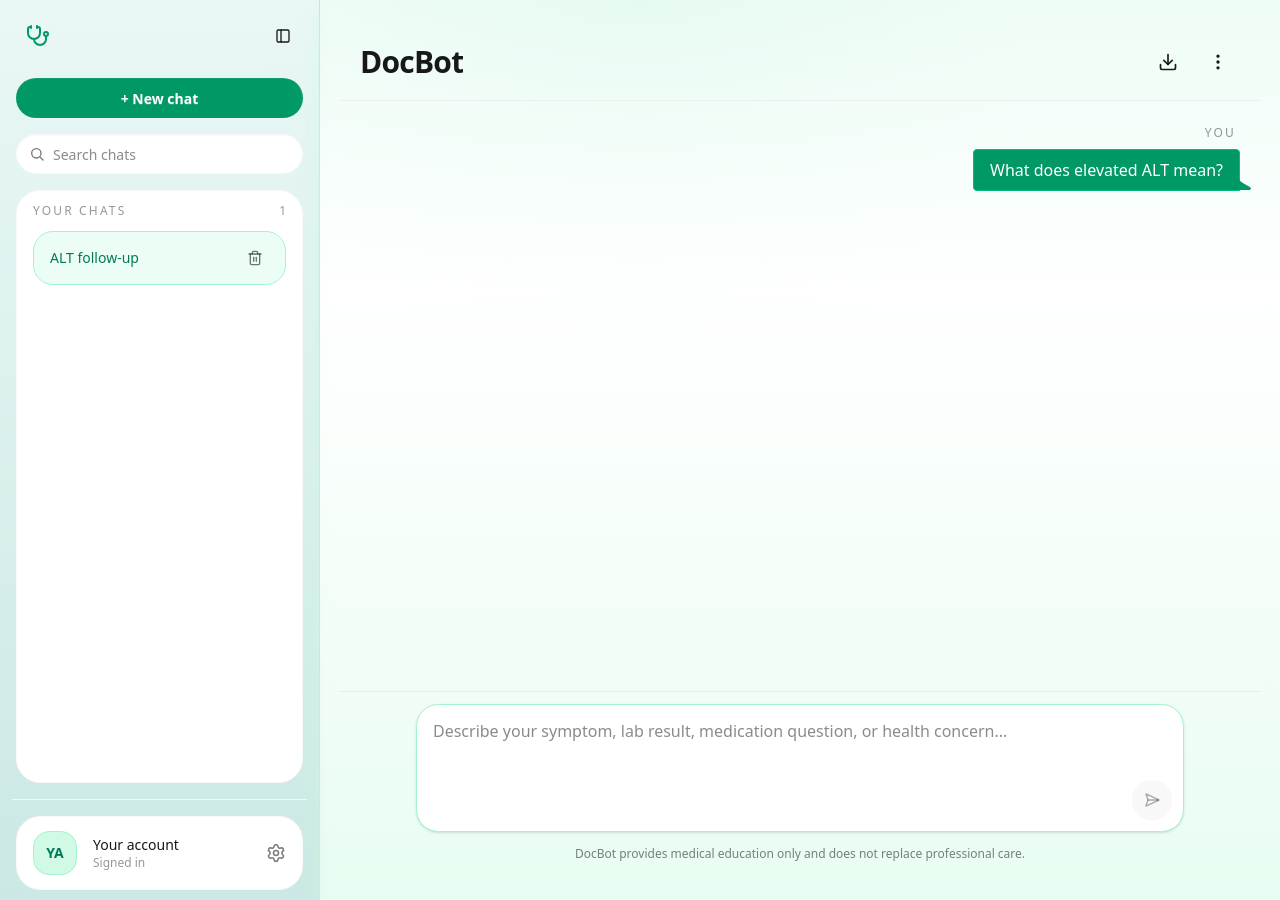
Test: chat shell › cancels conversation deletion from the confirmation modal
Expected: the text "What does elevated ALT mean?" is shown, [973,149,1240,191]
Click the button named "current conversation actions". click: (1218, 62)
box: [1196,40,1240,84]
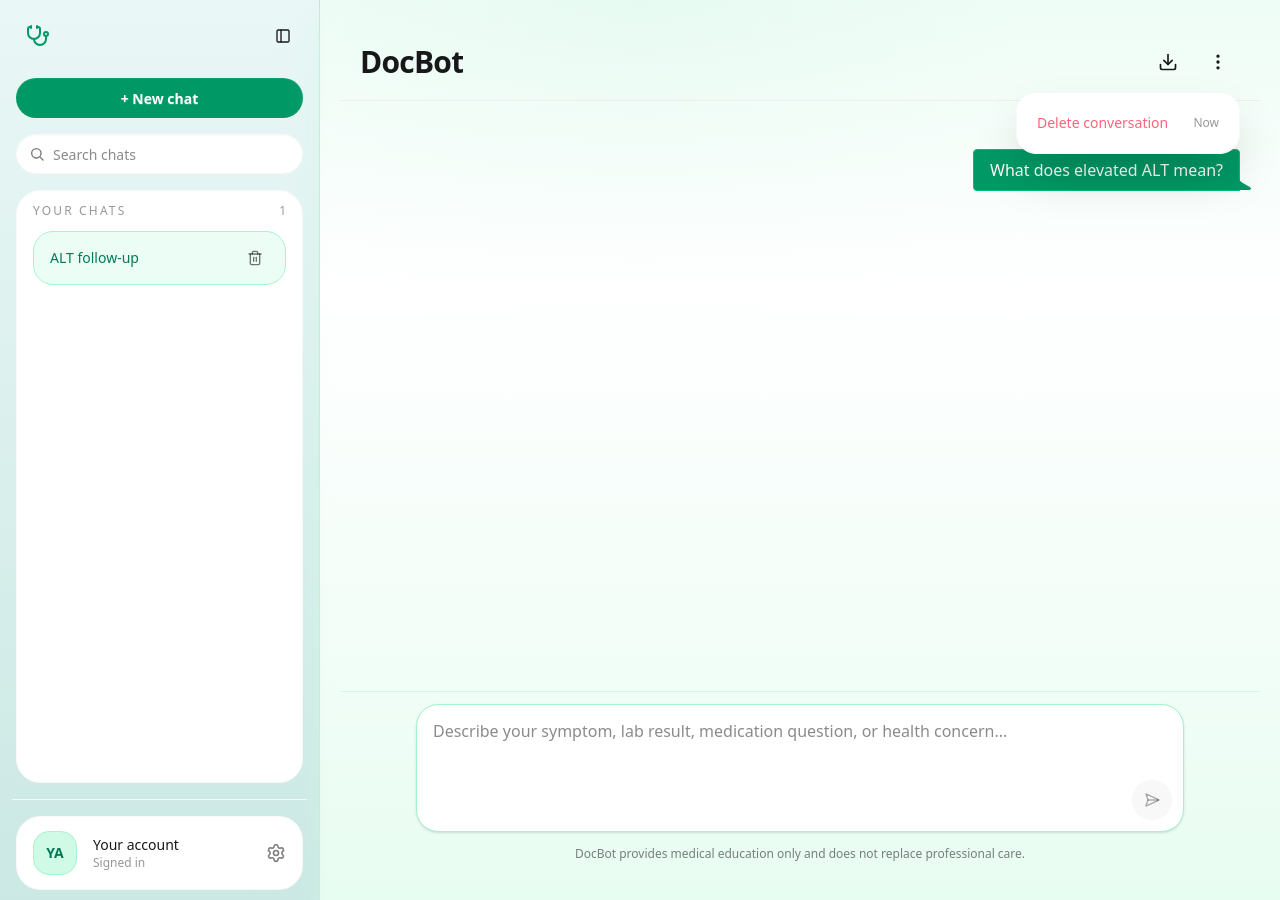
Click the menu item "Delete conversation Now". click: (1128, 123)
box: [1025,101,1231,145]
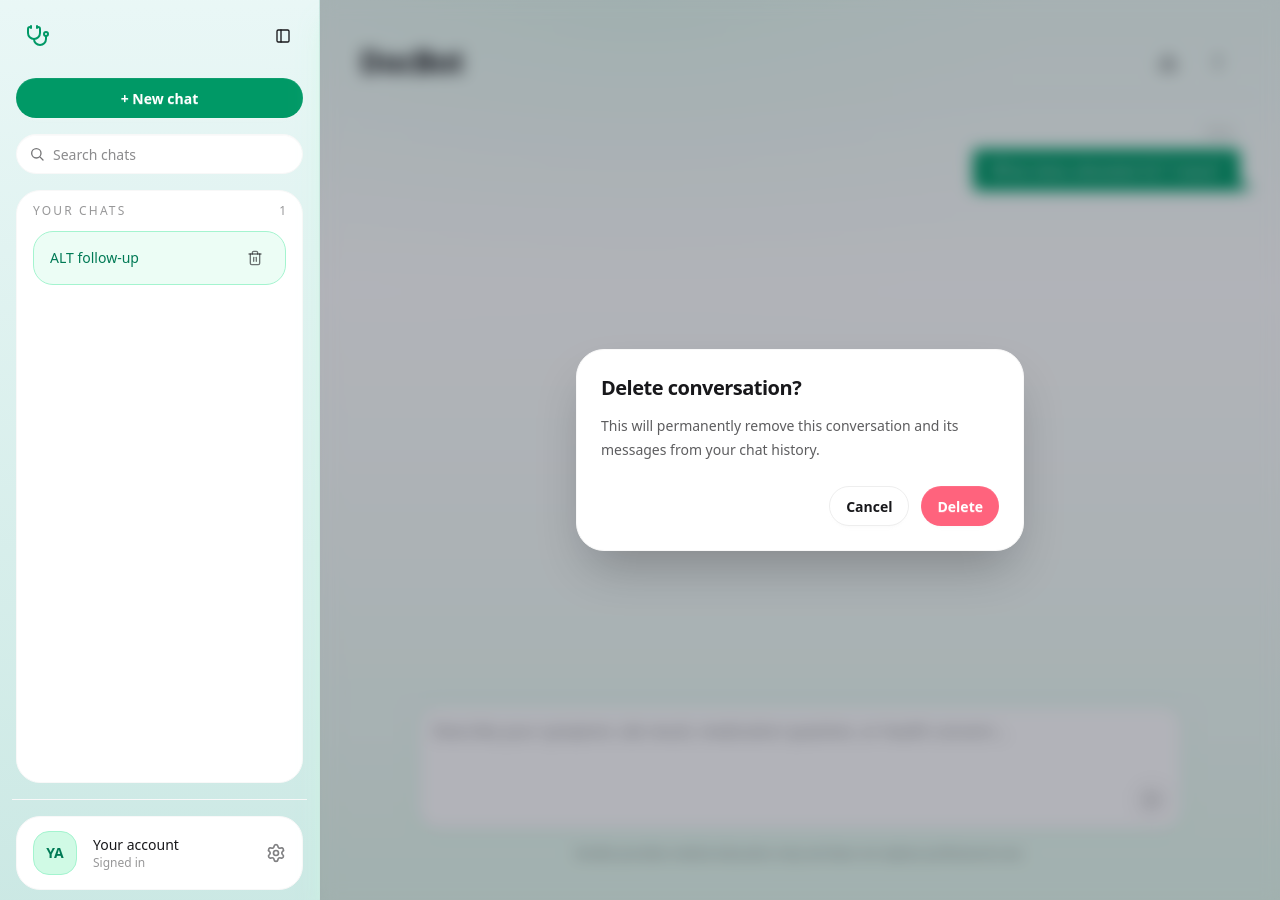
Expected: the dialog "Delete conversation" is shown, [576,349,1024,551]
Click the button "Cancel". click: (869, 506)
box: [829,486,910,526]
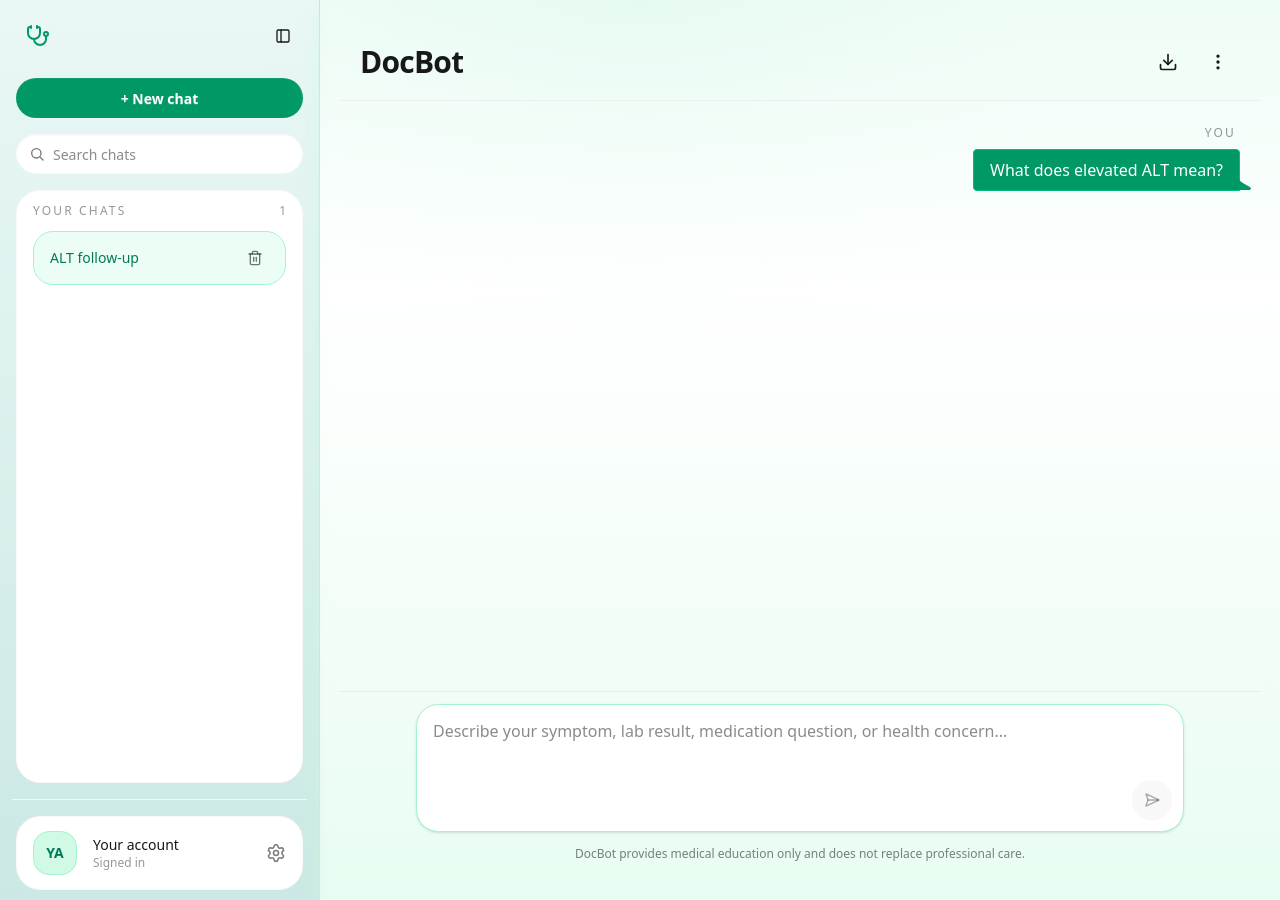
Expected: the text "What does elevated ALT mean?" is shown, [973,149,1240,191]
Expected: the heading "Delete conversation" is gone
